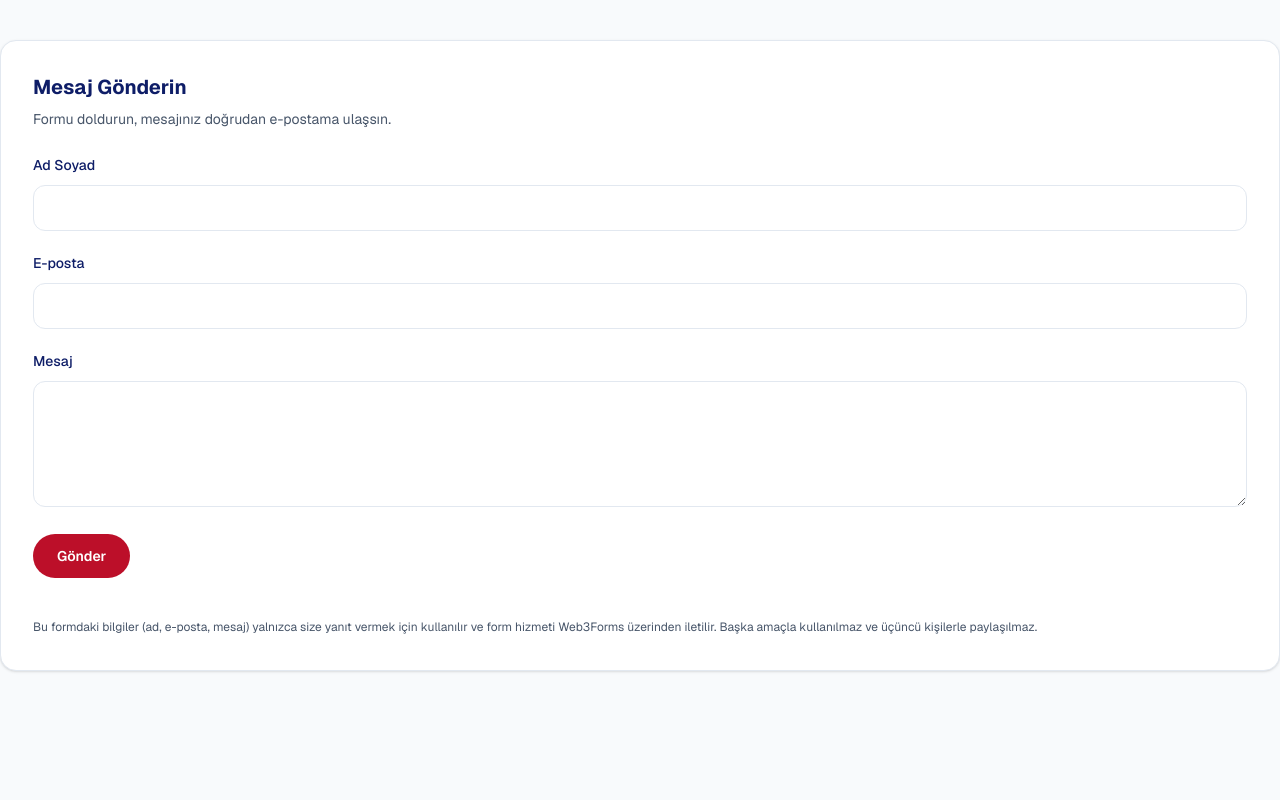
Scenario: ContactForm › sends the fields with the access key and shows a success message
Type "Test Kişi" into the field labelled "Ad Soyad".
click(640, 208); type("Test Kişi")  # box [33, 185, 1247, 231]
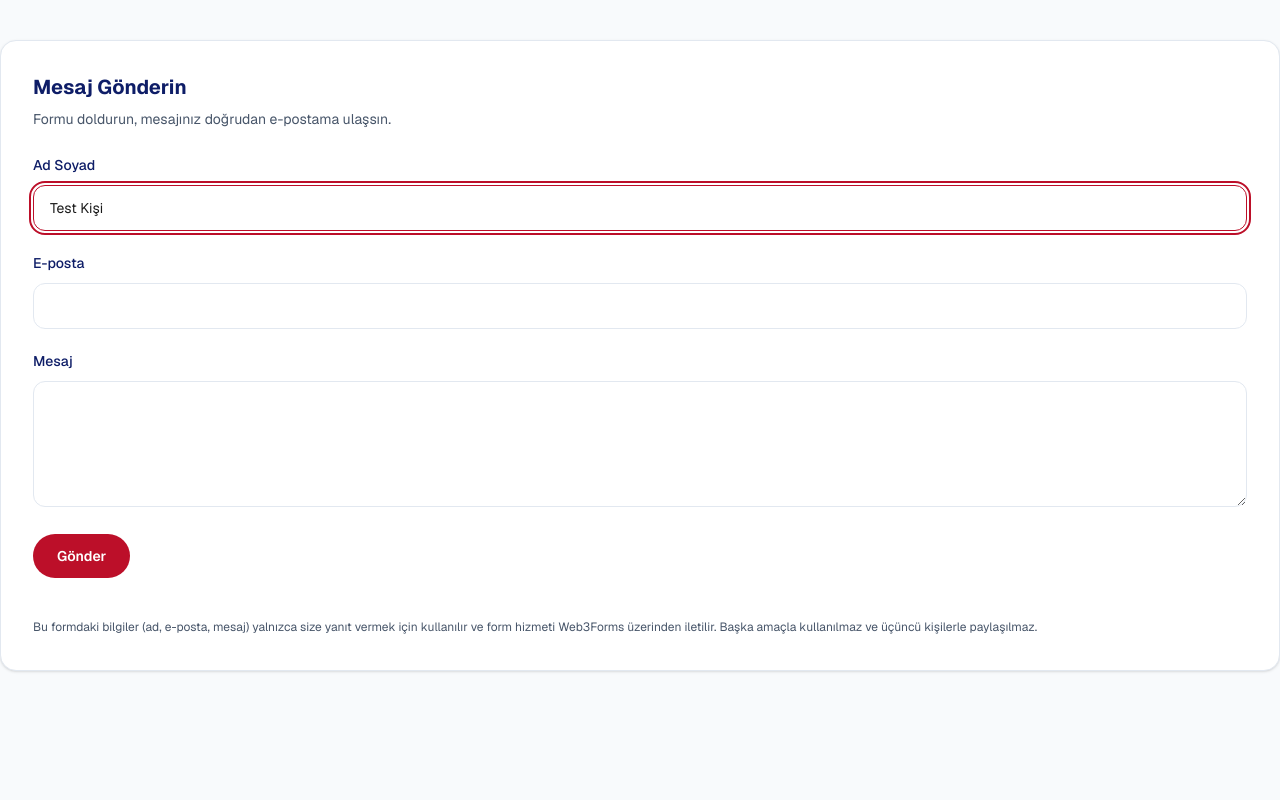
Type "test@example.com" into the field labelled "E-posta".
click(640, 306); type("test@example.com")  # box [33, 283, 1247, 329]
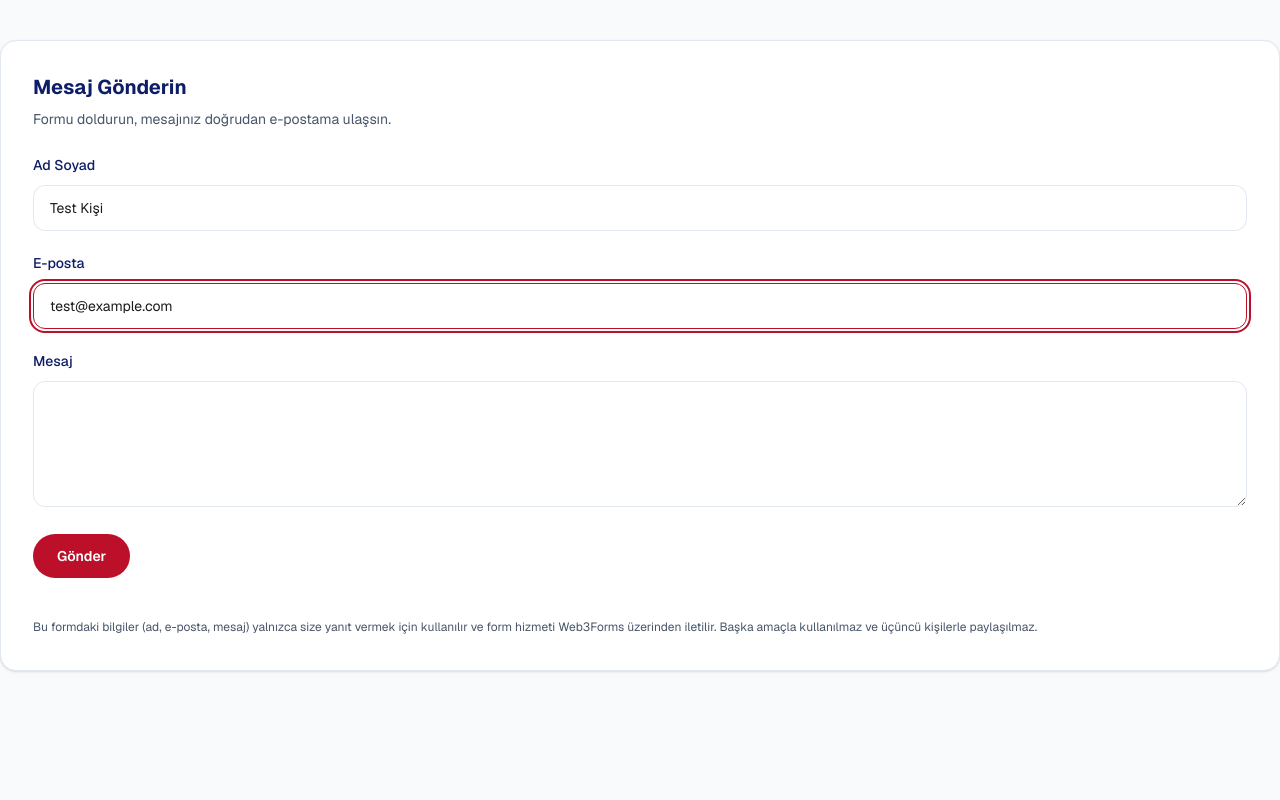
Type "Merhaba, bu bir deneme mesajıdır." into the text box labelled "Mesaj".
click(640, 444); type("Merhaba, bu bir deneme mesajıdır.")  # box [33, 381, 1247, 507]
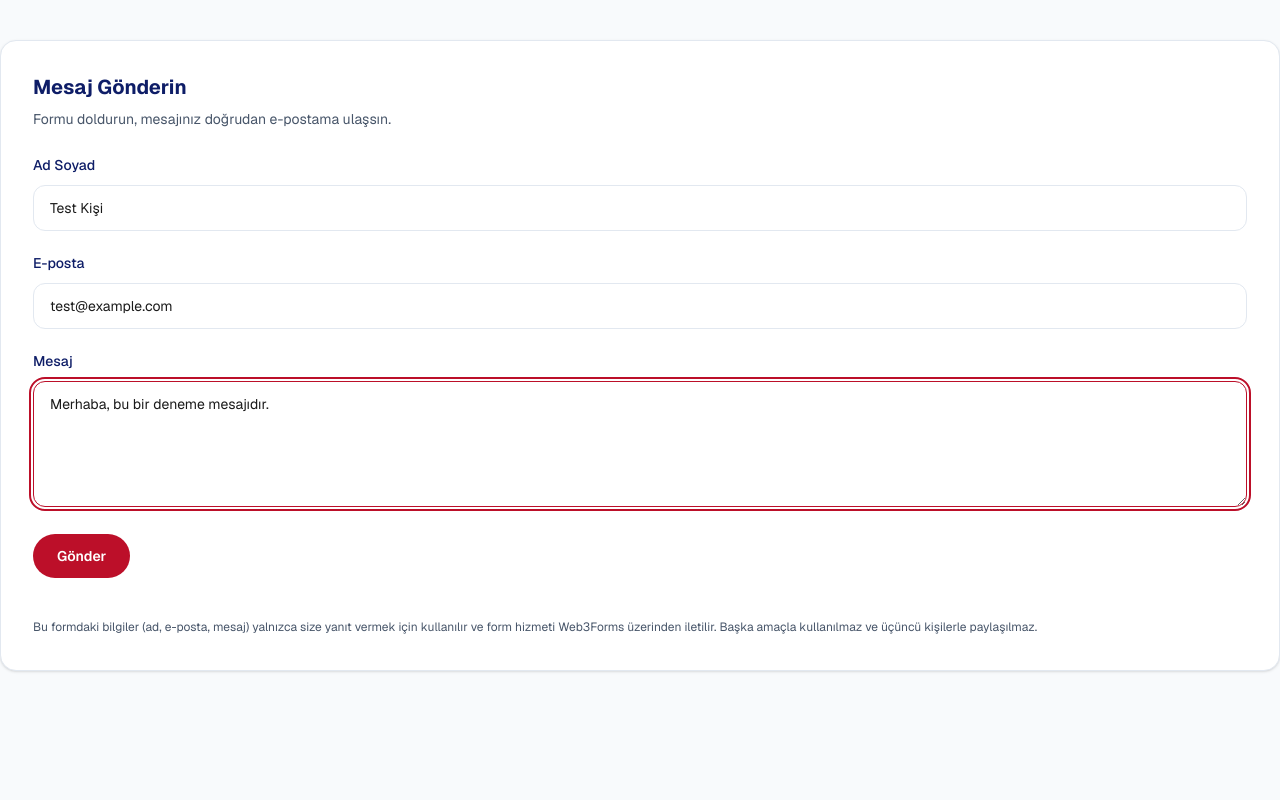
Click the button "Gönder".
click(82, 556)  # box [33, 534, 130, 578]
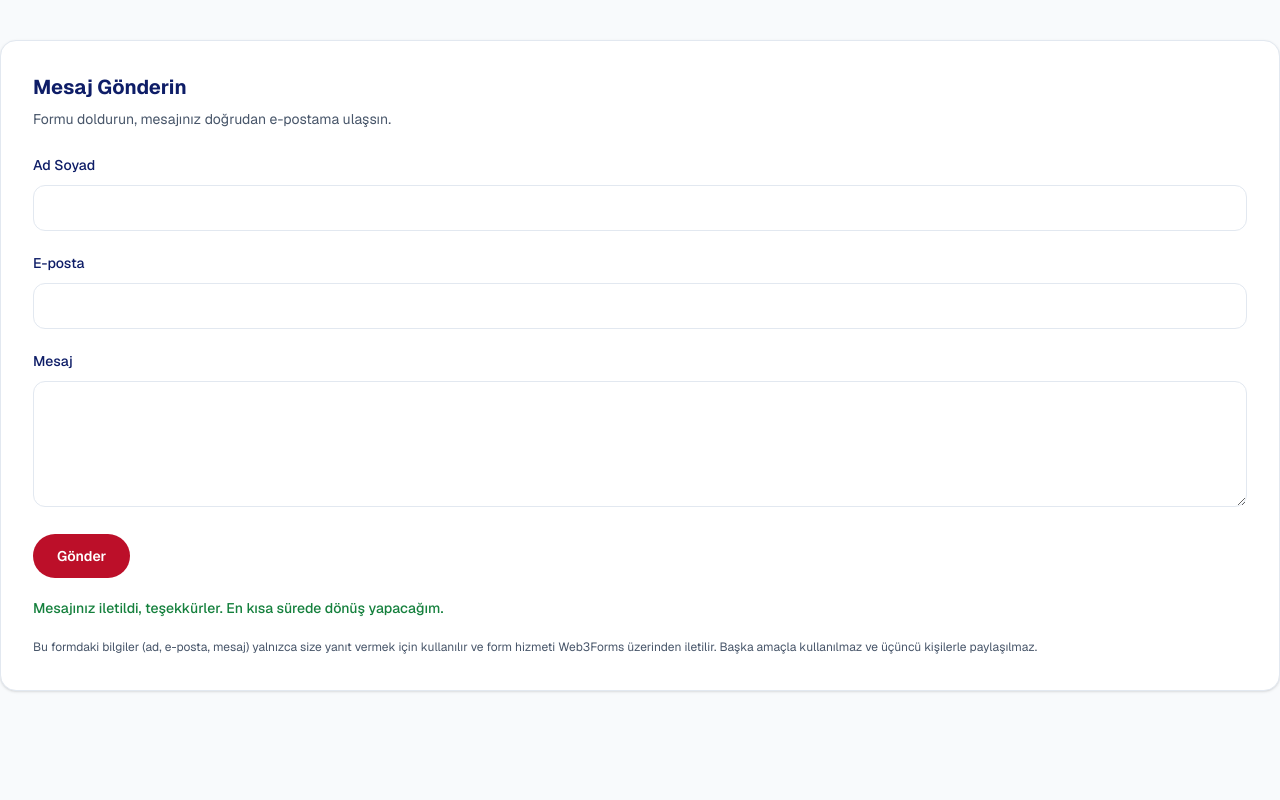
Check: the text "Mesajınız iletildi" is shown, box [33, 599, 444, 617]
